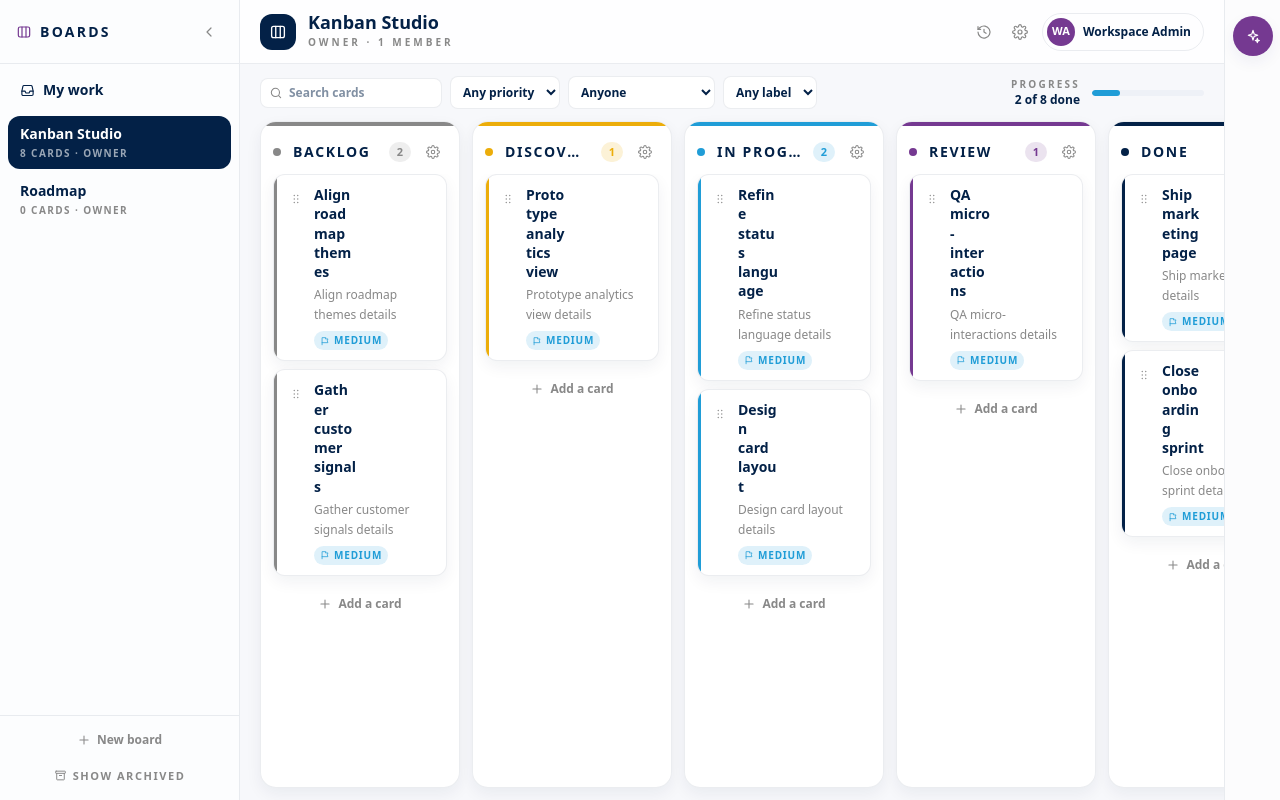
Test: Account dialog › lists workspace accounts for administrators
The image size is (1280, 800).
Click the button with aria-label "account and settings" at (1123, 32), box [1042, 12, 1204, 50]
(page scrolled)
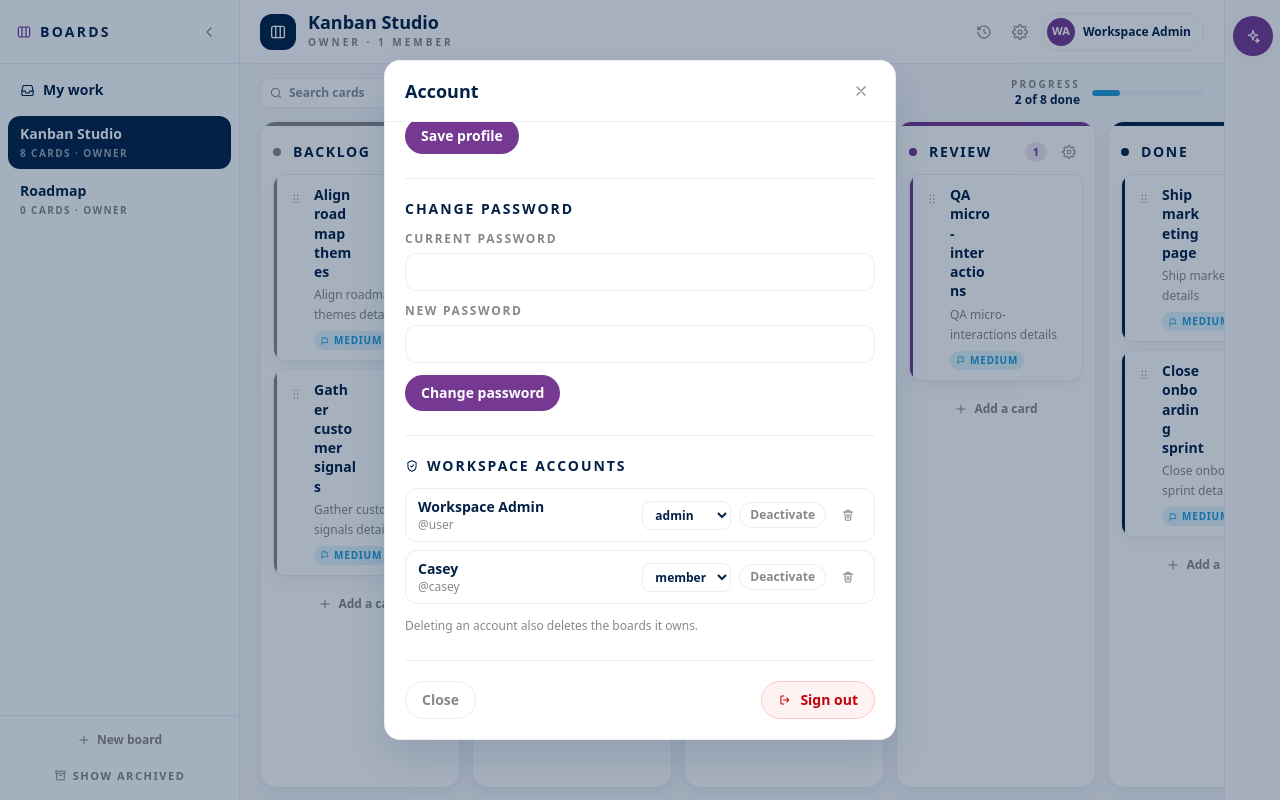
Expected: the list item with test id "account-casey" shows "Casey", [418, 559, 458, 578]
